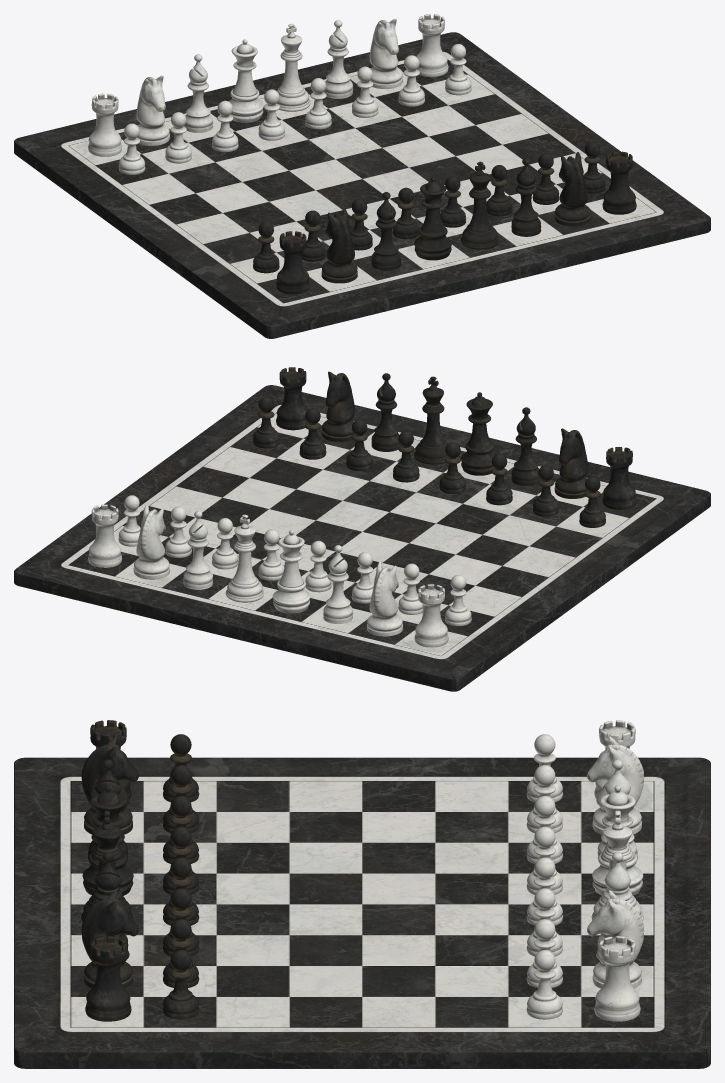
File: chess-set.glb
3 renders of one model, top to bottom at view 1: azimuth 30°, elevation 25°; view 2: azimuth 150°, elevation 25°; view 3: azimuth 270°, elevation 25°, orthographic. The views are drawn at different scales.
Parts seen in each view (by area): view 1: chess_set; view 2: chess_set; view 3: chess_set.
Boxes of the visible parts, x1,y1,x2,y2 form: chess_set: [14, 14, 710, 338]; chess_set: [14, 367, 710, 691]; chess_set: [14, 720, 710, 1068].
Size of the model in its own units: 0.5532 by 0.1124 by 0.5532.
3 materials, 3 textured.
